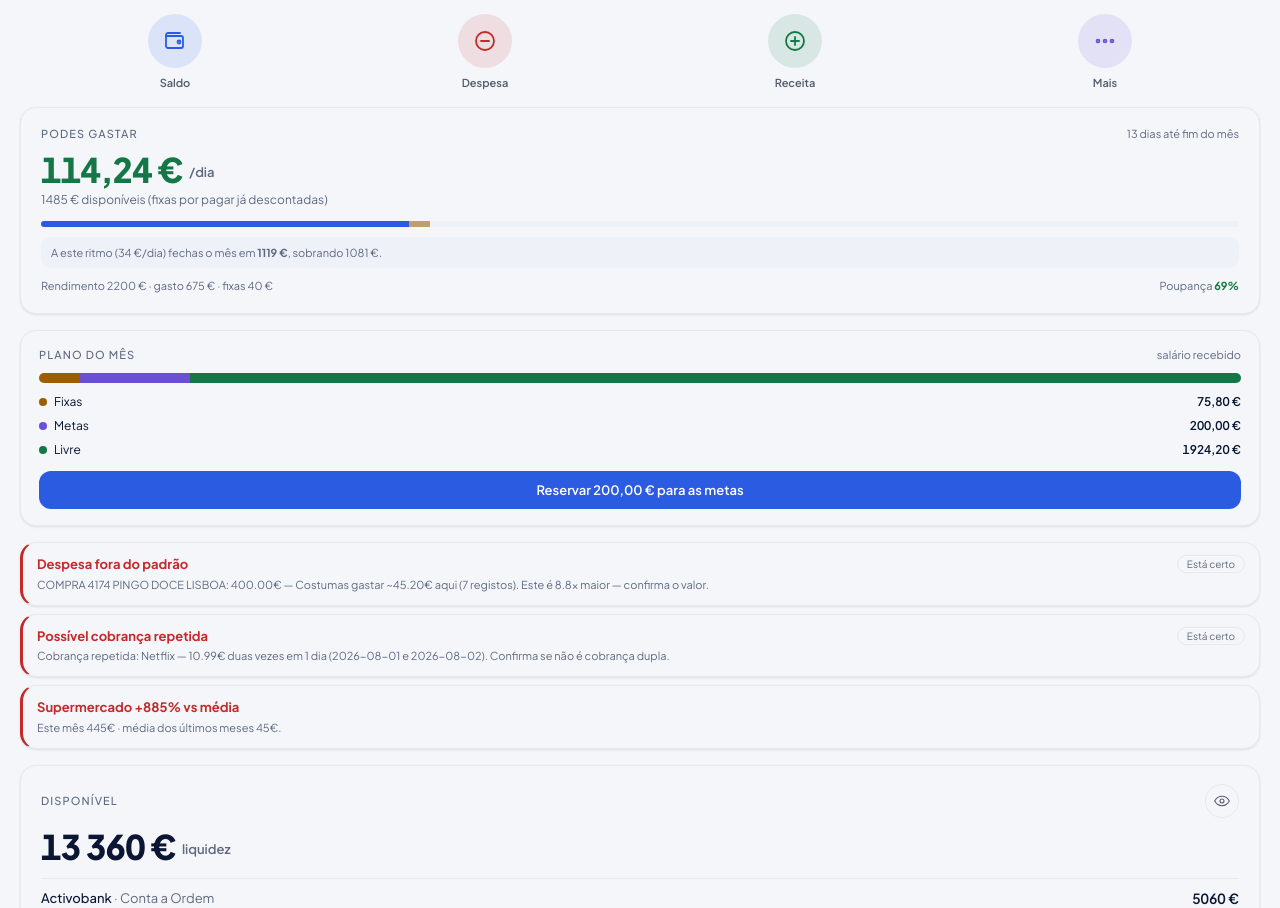
Test case: Fluxo: plano do mês → reforçar metas › reserva para as metas uma única vez no mês
This screenshot has width=1280, height=908.
Click the button "Reservar 200,00 € para as metas" at (640, 490), box [39, 471, 1241, 509]
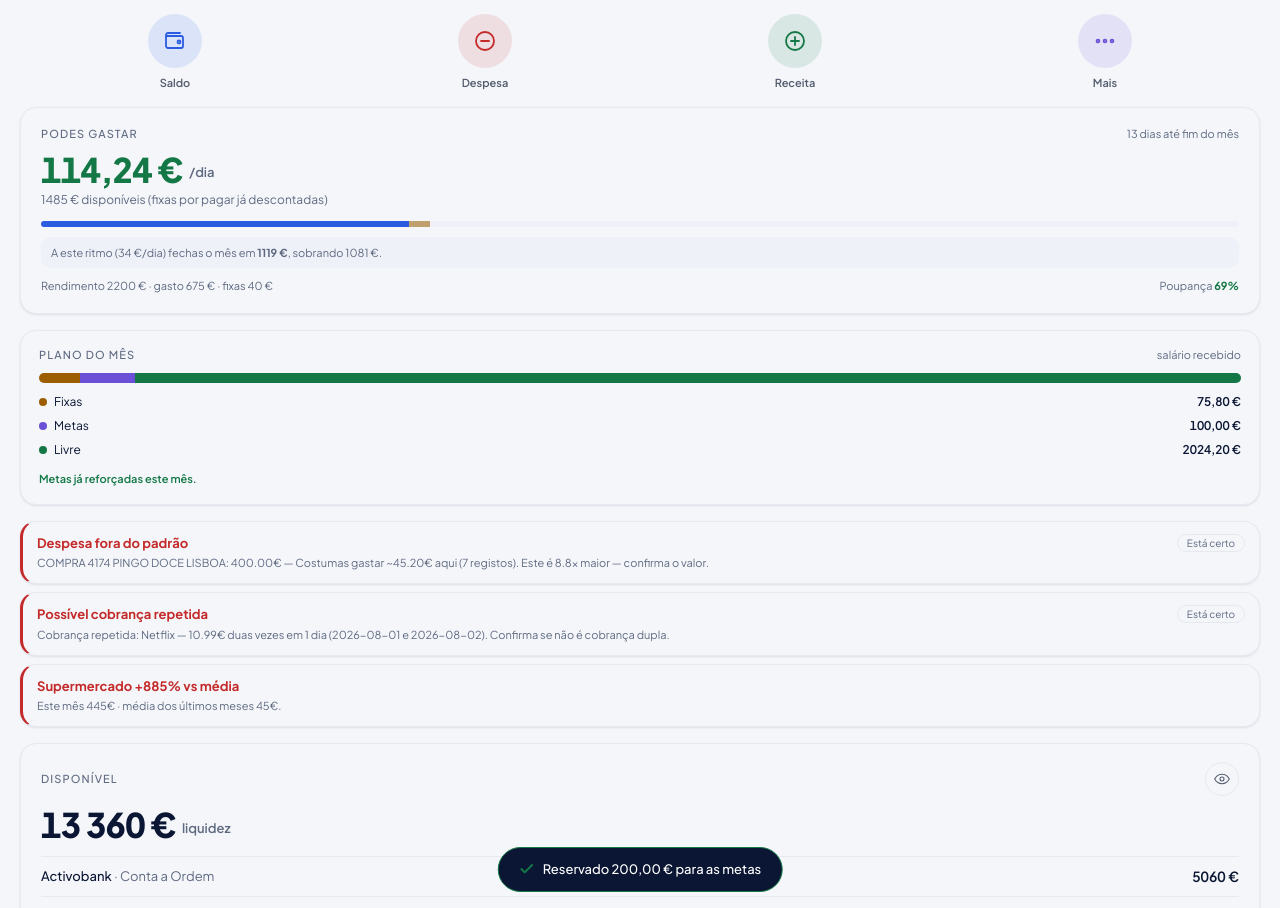
Check: the button "Reservar 200,00 € para as metas" is gone
Check: the text "Metas já reforçadas este mês" is shown, box [39, 472, 197, 485]
